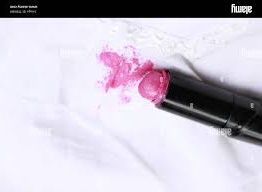lipstick: (96, 45, 147, 100)
